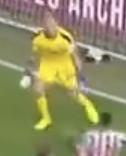goalkeeper: (16, 7, 110, 141)
